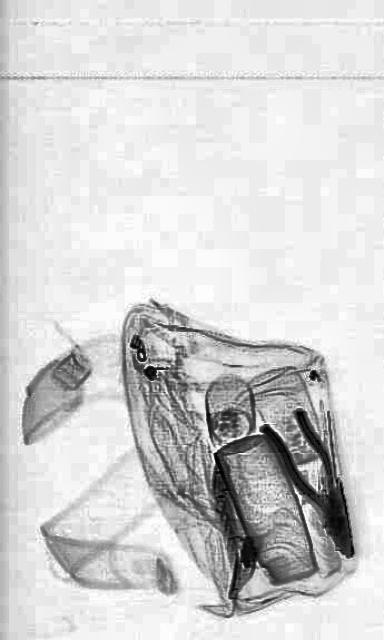Pliers: (262, 388, 368, 576)
